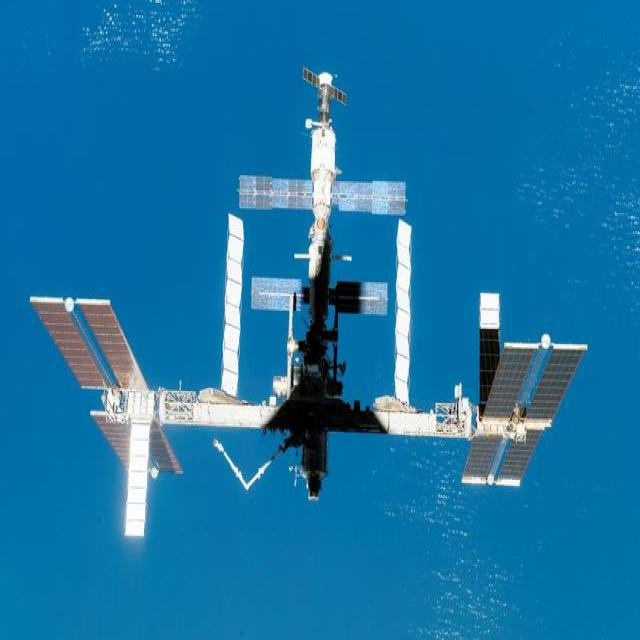satellite: (30, 68, 588, 535)
